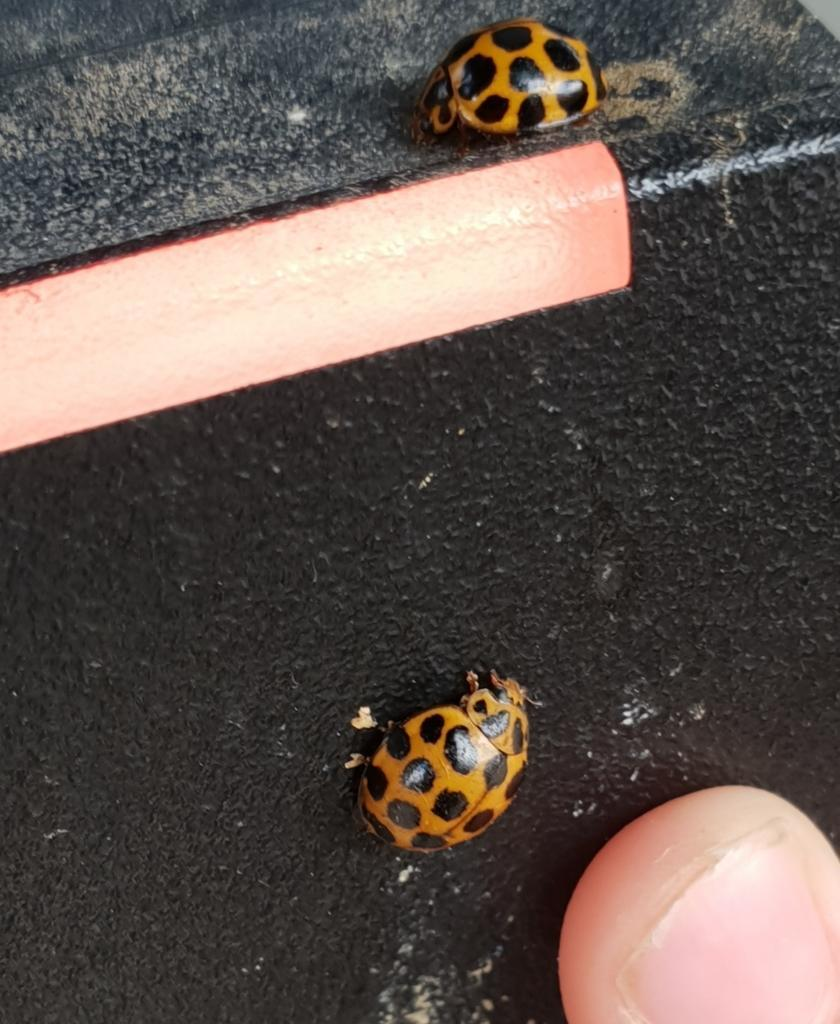ladybug: (354, 664, 549, 859), (414, 16, 614, 146)
